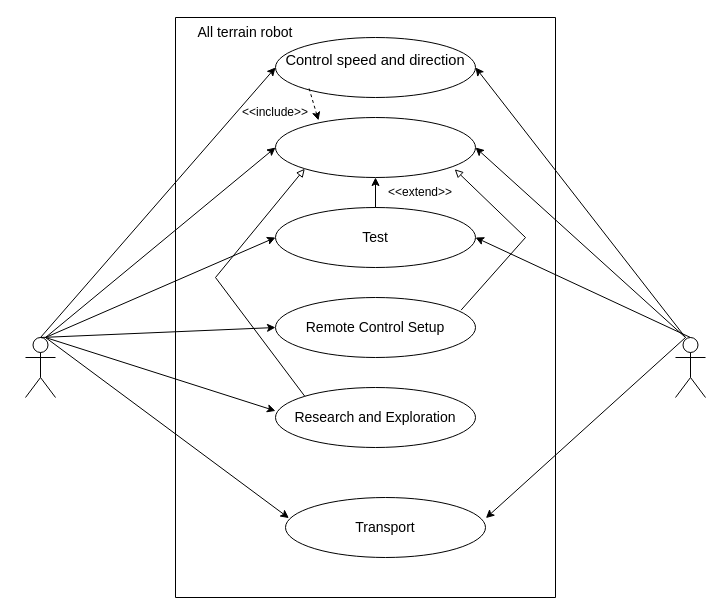
Image size: 723x615. Some labels were removed from this diagram. The centre of each missing label's shape, as x and y in pixels:
"Car" belongs at [690,367].
"Navigate" belongs at [375,147].
"Operator" belongs at [40,367].
